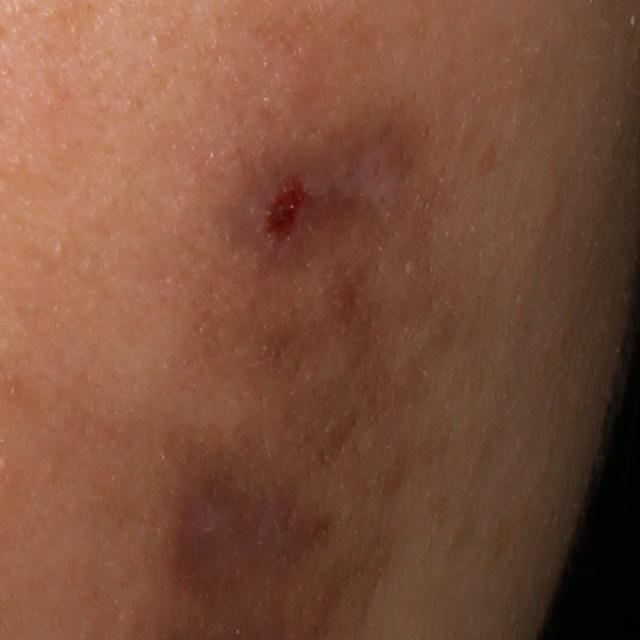other: (255, 180, 309, 244)
